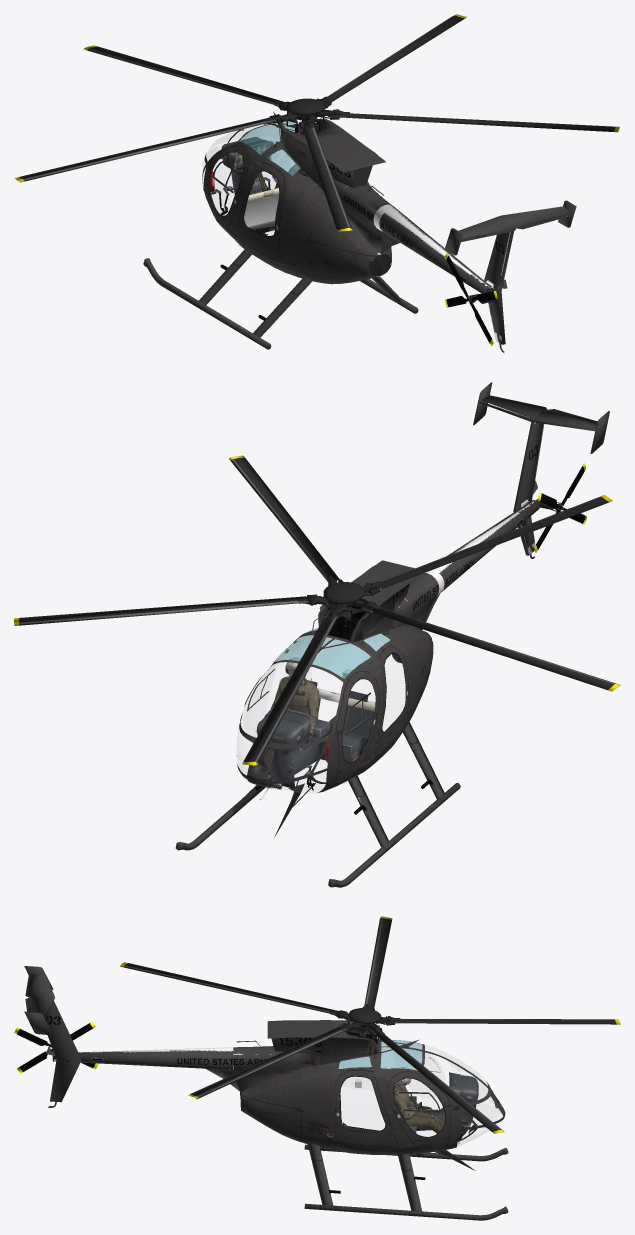
The picture shows the model from 3 angles, top to bottom: view 1: azimuth 30°, elevation 25°; view 2: azimuth 150°, elevation 25°; view 3: azimuth 270°, elevation 25°; orthographic projection. The views are drawn at different scales.
Parts seen in each view (by area): view 1: ext_fuselage1, rotor_main, ext_tail, ext_fuselage2, glasss_grn, int_seats2, int_console, rotor_tail, glass; view 2: rotor_main, ext_fuselage1, ext_fuselage2, ext_tail, int_console, int_seats2, glasss_grn, int_pilotR, glass, rotor_tail; view 3: ext_fuselage1, rotor_main, ext_tail, ext_fuselage2, glass, int_pilotR, glasss_grn, int_console, rotor_tail.
Boxes of the visible parts, <box> form: ext_fuselage1: <box>202,111,391,278</box>; rotor_main: <box>14,14,619,231</box>; ext_tail: <box>344,183,576,353</box>; ext_fuselage2: <box>143,118,418,349</box>; glasss_grn: <box>239,121,299,175</box>; int_seats2: <box>238,188,279,233</box>; int_console: <box>210,137,273,194</box>; rotor_tail: <box>444,253,497,346</box>; glass: <box>203,125,275,214</box>; rotor_main: <box>14,455,620,765</box>; ext_fuselage1: <box>236,579,439,837</box>; ext_fuselage2: <box>175,560,460,887</box>; ext_tail: <box>404,382,609,621</box>; int_console: <box>256,706,329,788</box>; int_seats2: <box>278,679,381,762</box>; glasss_grn: <box>275,628,389,678</box>; int_pilotR: <box>269,657,318,774</box>; glass: <box>237,663,311,792</box>; rotor_tail: <box>534,463,586,552</box>; ext_fuselage1: <box>233,1027,495,1170</box>; rotor_main: <box>120,916,620,1133</box>; ext_tail: <box>24,966,281,1107</box>; ext_fuselage2: <box>240,1020,508,1220</box>; glass: <box>343,1045,500,1146</box>; int_pilotR: <box>393,1067,463,1138</box>; glasss_grn: <box>338,1040,422,1070</box>; int_console: <box>416,1072,478,1135</box>; rotor_tail: <box>14,1022,98,1073</box>.
Bounding box in the file's own units: 7.48 × 3.44 × 9.23.
9 materials, 9 textured.
